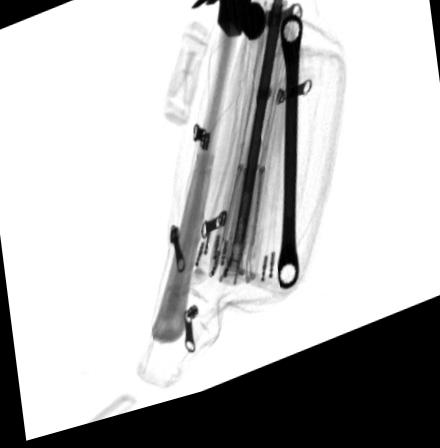Hammer: (147, 0, 267, 354)
Wrench: (275, 30, 303, 306)
